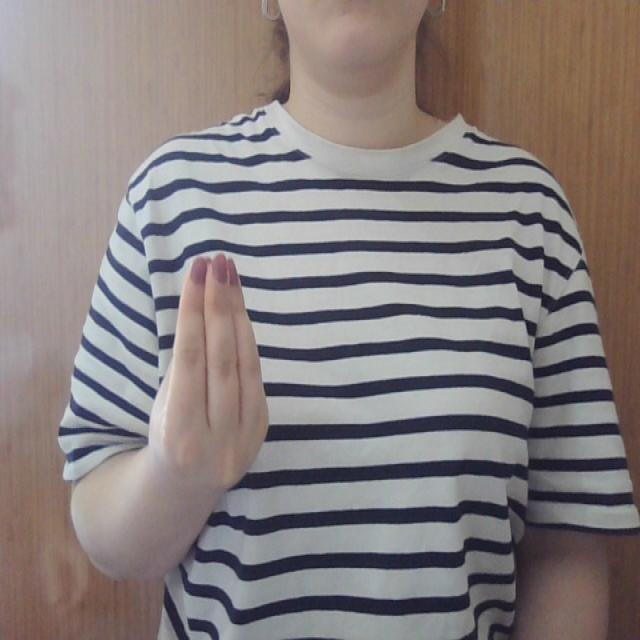iyi: (146, 232, 277, 485)
